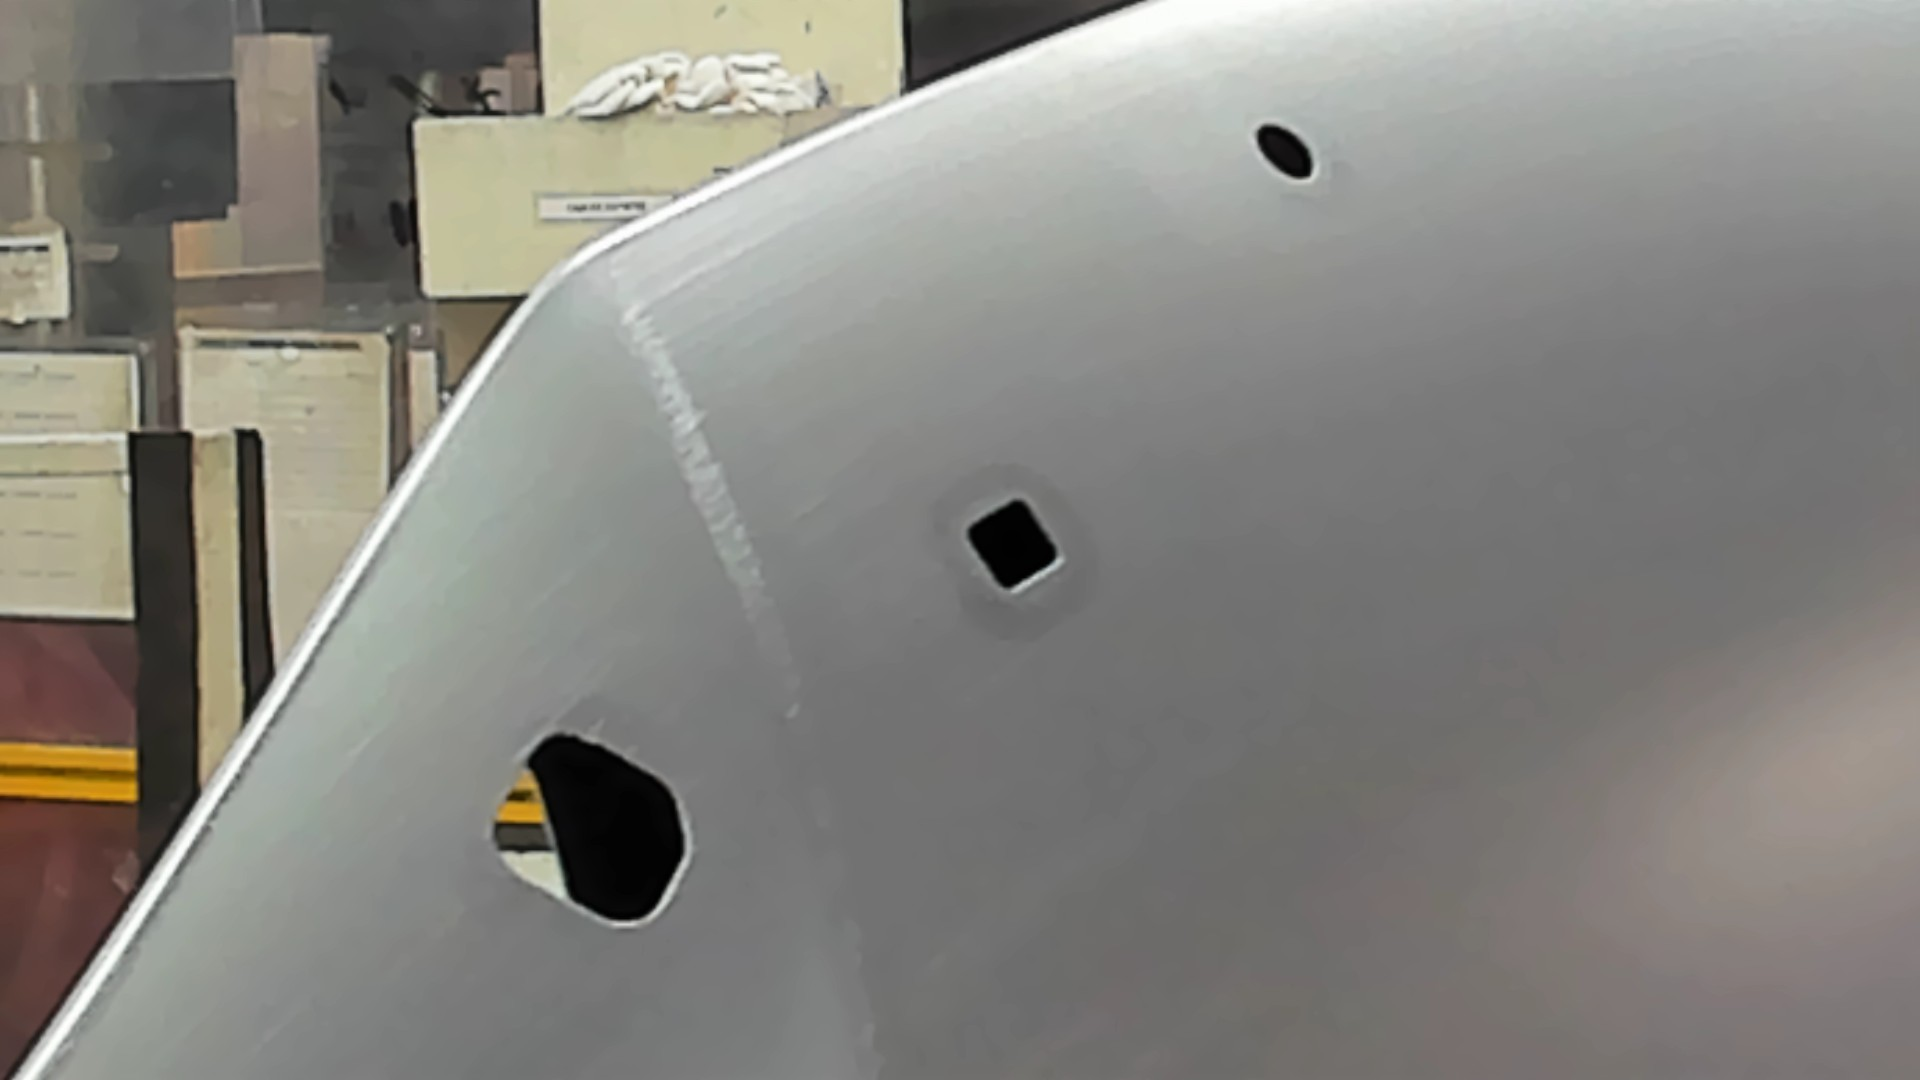capo: (1075, 182, 1920, 1080)
chico: (1251, 117, 1320, 181)
grande: (483, 727, 694, 928)
mediano: (959, 491, 1065, 601)
